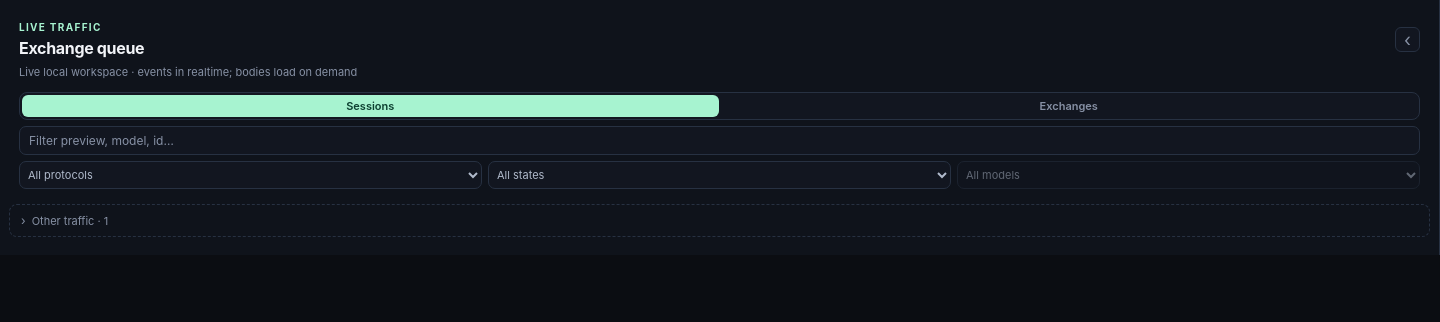
Test: TrafficQueue › keeps the method and path as identity for non-conversation traffic
Click the button "Exchanges" at {"x": 1069, "y": 106}, box [720,95,1417,117]
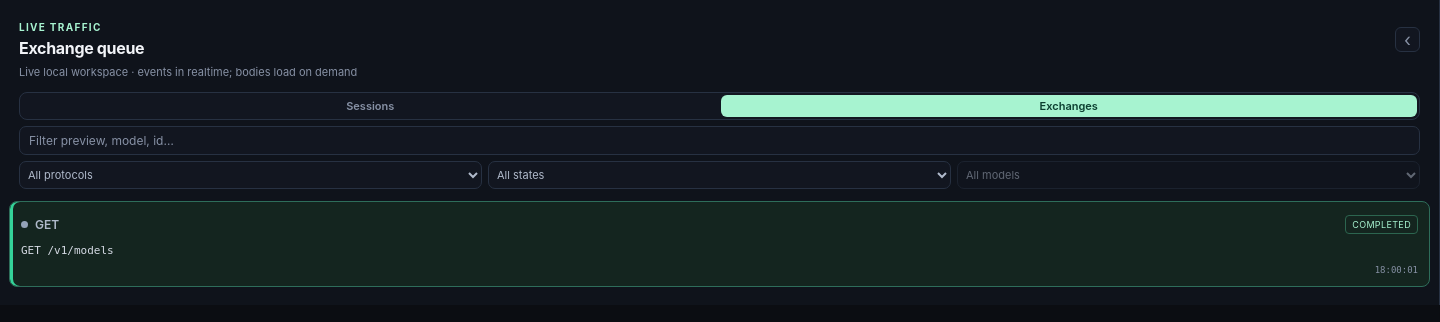
Expected: the text "GET" is shown, [35,217,59,232]
Expected: the text "/v1/models" is shown, [21,244,114,257]
